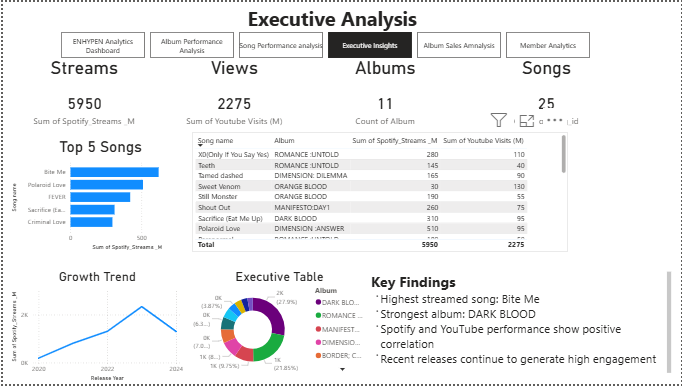

The dashboard page shown, as its layout file describes it:
{"tool":"powerbi","page":{"name":"Executive Insights","canvas":[1280,720],"ordinal":3},"visuals":[{"type":"textbox","box":[10.5,0,1219.3,82.5],"z":0},{"type":"card","title":"Streams","fields":{"Values":["Sum(Songs.Spotify_Streams _M)"]},"box":[10.5,105.3,284.2,150.9],"z":1000},{"type":"card","title":"Views","fields":{"Values":["Sum(Songs.Youtube Visits (M))"]},"box":[294.7,105.3,284.2,150.9],"z":2000},{"type":"card","title":"Albums","fields":{"Values":["Count(Songs.Album)"]},"box":[578.9,105.3,284.2,150.9],"z":3000},{"type":"card","title":"Songs","fields":{"Values":["CountNonNull(Songs.Song_id)"]},"box":[863.2,105.3,326.3,150.9],"z":4000},{"type":"clusteredBarChart","title":"Top 5 Songs","fields":{"Category":["Songs.Song name"],"Y":["Sum(Songs.Spotify_Streams _M)"]},"box":[10.5,256.1,345.6,215.8],"z":5000},{"type":"donutChart","title":"Executive Table","fields":{"Category":["Songs.Album"],"Y":["Sum(Songs.Spotify_Streams _M)"]},"box":[349.1,503.5,345.6,201.8],"z":6000},{"type":"lineChart","title":"Growth Trend","fields":{"Category":["Songs.Release Year"],"Y":["Sum(Songs.Spotify_Streams _M)"]},"box":[10.5,503.5,333.3,215.8],"z":7000},{"type":"tableEx","fields":{"Values":["Songs.Song name","Songs.Album","Sum(Songs.Spotify_Streams _M)","Sum(Songs.Youtube Visits (M))"]},"box":[356.1,245.6,710.5,226.3],"z":8000},{"type":"textbox","box":[689.5,503.5,577.2,201.8],"z":9000},{"type":"pageNavigator","box":[108.8,56.1,1000,49.1],"z":9001}]}

Visuals, with their boxes in screenshot pixels (x1, y1, x2, y2), scaled from the page's 1280x720 canvas onto the 682x386 screenshot:
textbox: [x1=6, y1=0, x2=655, y2=44]
"Streams" card: [x1=6, y1=56, x2=157, y2=137]
"Views" card: [x1=157, y1=56, x2=308, y2=137]
"Albums" card: [x1=308, y1=56, x2=460, y2=137]
"Songs" card: [x1=460, y1=56, x2=634, y2=137]
"Top 5 Songs" clusteredBarChart: [x1=6, y1=137, x2=190, y2=253]
"Executive Table" donutChart: [x1=186, y1=270, x2=370, y2=378]
"Growth Trend" lineChart: [x1=6, y1=270, x2=183, y2=385]
tableEx - Songs.Song name x Songs.Album: [x1=190, y1=132, x2=568, y2=253]
textbox: [x1=367, y1=270, x2=675, y2=378]
pageNavigator: [x1=58, y1=30, x2=591, y2=56]
